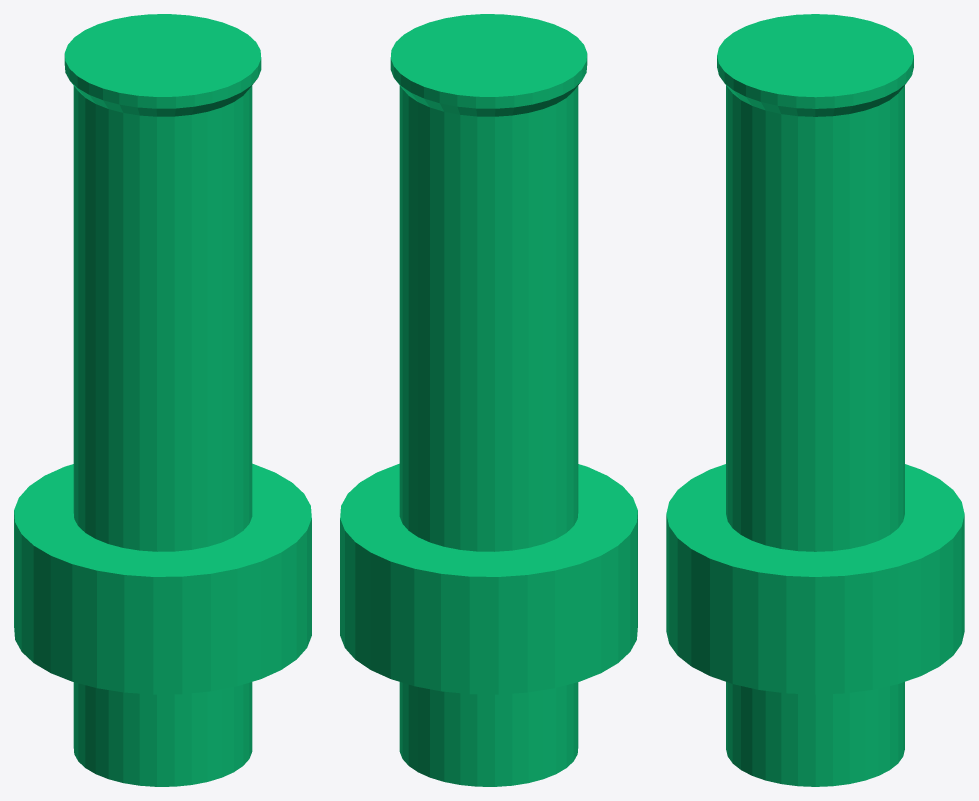
The model's file is black_buoy.dae.
The picture shows the model from 3 angles, left to right: view 1: azimuth 30°, elevation 25°; view 2: azimuth 150°, elevation 25°; view 3: azimuth 270°, elevation 25°; orthographic projection.
Parts seen in each view (by area): view 1: Cylinder; view 2: Cylinder; view 3: Cylinder.
Boxes of the visible parts, x1,y1,x2,y2 form: Cylinder: [14, 14, 311, 786]; Cylinder: [340, 14, 637, 786]; Cylinder: [666, 14, 964, 786].
Bounding box in the file's own units: 0.46 × 0.46 × 1.18.
